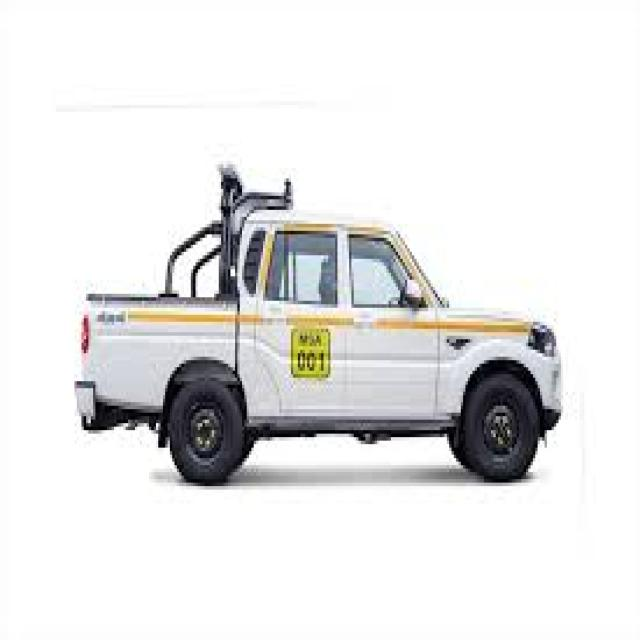light_vehicle: (58, 154, 563, 503)
